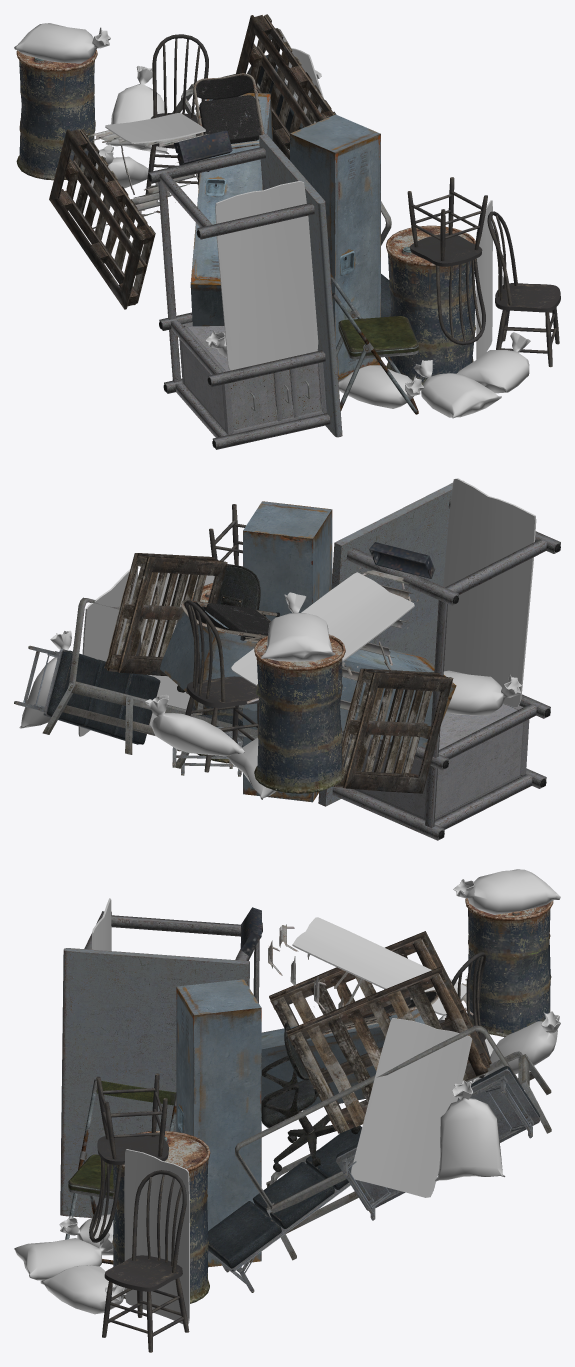
File: Barricade1.fbx
The picture shows the model from 3 angles, top to bottom: view 1: azimuth 30°, elevation 25°; view 2: azimuth 150°, elevation 25°; view 3: azimuth 270°, elevation 25°; orthographic projection. The views are drawn at different scales.
Visible parts, largest first — view 1: LOD_1_Group_0_Sub_2__sm30_093_STARSPClDesk01A_A_Mat1, LOD_1_Group_0_Sub_1__sm26_022_WoodBoard01A_A_Mat, LOD_1_Group_0_Sub_3__sm30_051_Locker01A_A_Mat1, LOD_1_Group_0_Sub_6__sm26_013_oilCan01A_A_Mat, LOD_1_Group_0_Sub_11__sm26_003_Palette01A_A_Mat, LOD_1_Group_0_Sub_7__sm26_046_Sandbag04A_A_Mat__Env_default, LOD_1_Group_0_Sub_5__sm30_115_cafeChair01A_A_Mat, LOD_1_Group_0_Sub_4__sm30_056_FoldingChair01A_A_Mat1, LOD_1_Group_0_Sub_9__sm30_153_FoldingChair01A_A_Mat, LOD_1_Group_0_Sub_12__sm30_163_Foldingladder03A_A_Mat, LOD_1_Group_0_Sub_8__sm30_126_BenchA01A_A_Mat1, LOD_1_Group_0_Sub_13__sm30_002_OfficeSofa01A_A_Mat1; view 2: LOD_1_Group_0_Sub_2__sm30_093_STARSPClDesk01A_A_Mat1, LOD_1_Group_0_Sub_1__sm26_022_WoodBoard01A_A_Mat, LOD_1_Group_0_Sub_11__sm26_003_Palette01A_A_Mat, LOD_1_Group_0_Sub_3__sm30_051_Locker01A_A_Mat1, LOD_1_Group_0_Sub_6__sm26_013_oilCan01A_A_Mat, LOD_1_Group_0_Sub_7__sm26_046_Sandbag04A_A_Mat__Env_default, LOD_1_Group_0_Sub_8__sm30_126_BenchA01A_A_Mat1, LOD_1_Group_0_Sub_5__sm30_115_cafeChair01A_A_Mat, LOD_1_Group_0_Sub_13__sm30_002_OfficeSofa01A_A_Mat1, LOD_1_Group_0_Sub_12__sm30_163_Foldingladder03A_A_Mat, LOD_1_Group_0_Sub_9__sm30_153_FoldingChair01A_A_Mat, LOD_1_Group_0_Sub_10__sm30_057_OfficeChair_A_Mat; view 3: LOD_1_Group_0_Sub_1__sm26_022_WoodBoard01A_A_Mat, LOD_1_Group_0_Sub_2__sm30_093_STARSPClDesk01A_A_Mat1, LOD_1_Group_0_Sub_3__sm30_051_Locker01A_A_Mat1, LOD_1_Group_0_Sub_7__sm26_046_Sandbag04A_A_Mat__Env_default, LOD_1_Group_0_Sub_11__sm26_003_Palette01A_A_Mat, LOD_1_Group_0_Sub_6__sm26_013_oilCan01A_A_Mat, LOD_1_Group_0_Sub_8__sm30_126_BenchA01A_A_Mat1, LOD_1_Group_0_Sub_5__sm30_115_cafeChair01A_A_Mat, LOD_1_Group_0_Sub_13__sm30_002_OfficeSofa01A_A_Mat1, LOD_1_Group_0_Sub_10__sm30_057_OfficeChair_A_Mat, LOD_1_Group_0_Sub_4__sm30_056_FoldingChair01A_A_Mat1, LOD_1_Group_0_Sub_12__sm30_163_Foldingladder03A_A_Mat.
Part boxes in pixels (x1,y1,x2,y2): LOD_1_Group_0_Sub_2__sm30_093_STARSPClDesk01A_A_Mat1: (148, 134, 342, 449); LOD_1_Group_0_Sub_1__sm26_022_WoodBoard01A_A_Mat: (105, 47, 492, 370); LOD_1_Group_0_Sub_3__sm30_051_Locker01A_A_Mat1: (190, 93, 380, 381); LOD_1_Group_0_Sub_6__sm26_013_oilCan01A_A_Mat: (16, 50, 475, 385); LOD_1_Group_0_Sub_11__sm26_003_Palette01A_A_Mat: (49, 14, 336, 309); LOD_1_Group_0_Sub_7__sm26_046_Sandbag04A_A_Mat__Env_default: (14, 23, 530, 418); LOD_1_Group_0_Sub_5__sm30_115_cafeChair01A_A_Mat: (145, 34, 560, 367); LOD_1_Group_0_Sub_4__sm30_056_FoldingChair01A_A_Mat1: (330, 273, 418, 414); LOD_1_Group_0_Sub_9__sm30_153_FoldingChair01A_A_Mat: (193, 73, 264, 171); LOD_1_Group_0_Sub_12__sm30_163_Foldingladder03A_A_Mat: (88, 130, 232, 228); LOD_1_Group_0_Sub_8__sm30_126_BenchA01A_A_Mat1: (257, 54, 391, 317); LOD_1_Group_0_Sub_13__sm30_002_OfficeSofa01A_A_Mat1: (172, 28, 391, 245); LOD_1_Group_0_Sub_2__sm30_093_STARSPClDesk01A_A_Mat1: (318, 482, 560, 840); LOD_1_Group_0_Sub_1__sm26_022_WoodBoard01A_A_Mat: (78, 478, 536, 736); LOD_1_Group_0_Sub_11__sm26_003_Palette01A_A_Mat: (104, 553, 453, 793); LOD_1_Group_0_Sub_3__sm30_051_Locker01A_A_Mat1: (160, 501, 456, 802); LOD_1_Group_0_Sub_6__sm26_013_oilCan01A_A_Mat: (191, 583, 345, 793); LOD_1_Group_0_Sub_7__sm26_046_Sandbag04A_A_Mat__Env_default: (19, 592, 521, 799); LOD_1_Group_0_Sub_8__sm30_126_BenchA01A_A_Mat1: (14, 645, 242, 776); LOD_1_Group_0_Sub_5__sm30_115_cafeChair01A_A_Mat: (136, 504, 259, 772); LOD_1_Group_0_Sub_13__sm30_002_OfficeSofa01A_A_Mat1: (42, 597, 257, 768); LOD_1_Group_0_Sub_12__sm30_163_Foldingladder03A_A_Mat: (246, 542, 434, 744); LOD_1_Group_0_Sub_9__sm30_153_FoldingChair01A_A_Mat: (181, 600, 279, 642); LOD_1_Group_0_Sub_10__sm30_057_OfficeChair_A_Mat: (177, 565, 260, 693); LOD_1_Group_0_Sub_1__sm26_022_WoodBoard01A_A_Mat: (92, 898, 472, 1323); LOD_1_Group_0_Sub_2__sm30_093_STARSPClDesk01A_A_Mat1: (60, 911, 262, 1217); LOD_1_Group_0_Sub_3__sm30_051_Locker01A_A_Mat1: (176, 979, 424, 1267); LOD_1_Group_0_Sub_7__sm26_046_Sandbag04A_A_Mat__Env_default: (14, 869, 560, 1314); LOD_1_Group_0_Sub_11__sm26_003_Palette01A_A_Mat: (269, 931, 491, 1133); LOD_1_Group_0_Sub_6__sm26_013_oilCan01A_A_Mat: (112, 898, 553, 1303); LOD_1_Group_0_Sub_8__sm30_126_BenchA01A_A_Mat1: (208, 1066, 539, 1292); LOD_1_Group_0_Sub_5__sm30_115_cafeChair01A_A_Mat: (89, 952, 490, 1352); LOD_1_Group_0_Sub_13__sm30_002_OfficeSofa01A_A_Mat1: (235, 1025, 551, 1260); LOD_1_Group_0_Sub_10__sm30_057_OfficeChair_A_Mat: (261, 1022, 360, 1171); LOD_1_Group_0_Sub_4__sm30_056_FoldingChair01A_A_Mat1: (65, 1079, 176, 1264); LOD_1_Group_0_Sub_12__sm30_163_Foldingladder03A_A_Mat: (240, 907, 473, 1015).
Bounding box in the file's own units: 3.43 × 2.44 × 3.92.
